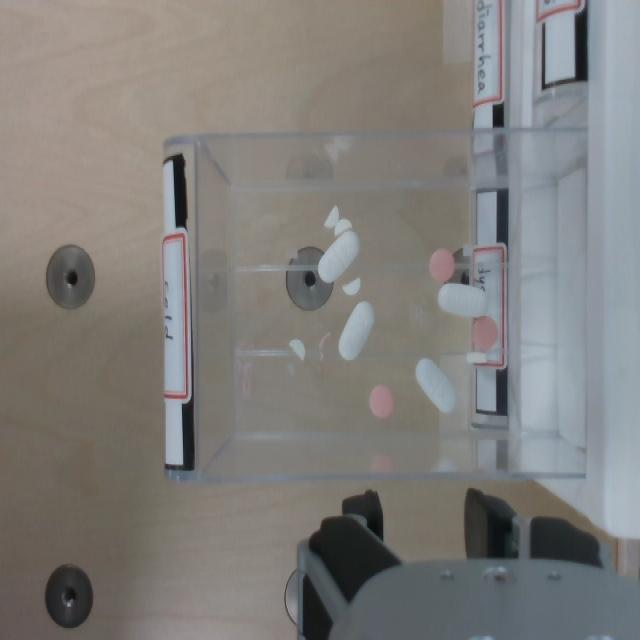amoxicle_tab: (415, 357, 456, 413), (317, 229, 359, 283), (338, 301, 374, 360), (437, 283, 486, 317)
panstar_tab: (368, 384, 393, 419), (472, 316, 497, 351), (429, 249, 454, 283)
sudafed_tab: (334, 219, 351, 236), (289, 340, 303, 360), (325, 207, 339, 227), (343, 279, 360, 295), (467, 352, 486, 363)
